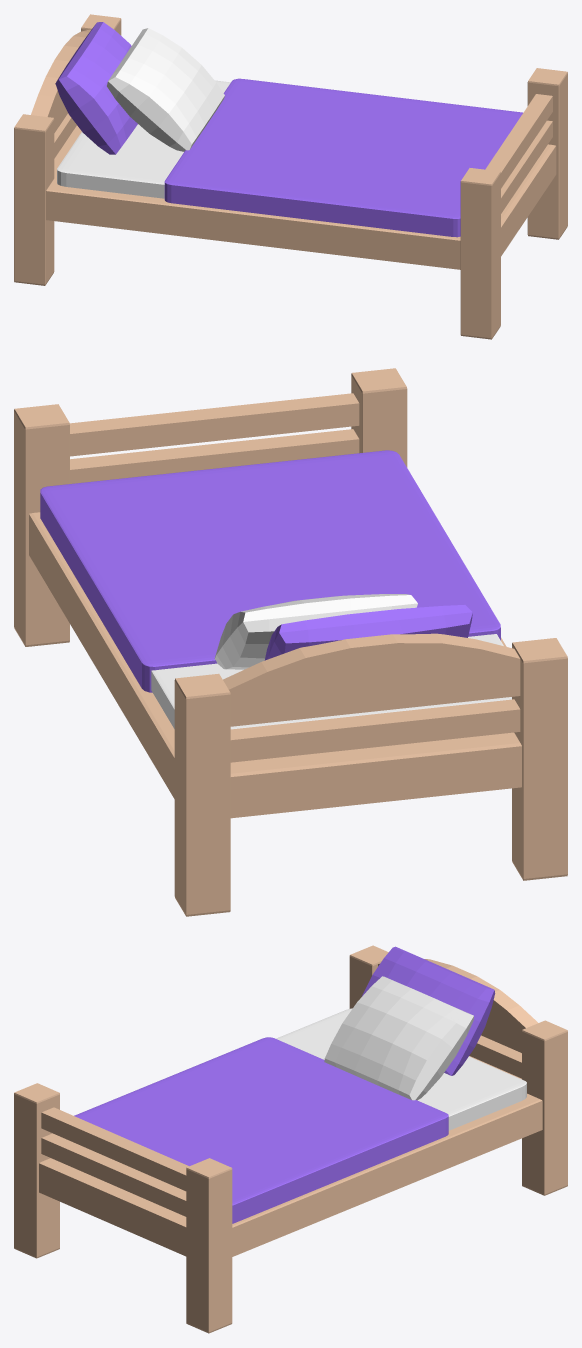
The model's file is bed.glb.
The picture shows the model from 3 angles, top to bottom: view 1: azimuth 30°, elevation 25°; view 2: azimuth 150°, elevation 25°; view 3: azimuth 270°, elevation 25°; orthographic projection. The views are drawn at different scales.
Visible parts, largest first — view 1: bed; view 2: bed; view 3: bed.
Boxes of the visible parts, <box> form: bed: <box>14,14,567,339</box>; bed: <box>14,368,567,916</box>; bed: <box>14,945,567,1333</box>.
Bounding box in the file's own units: 1.84 × 0.6883 × 1.86.
